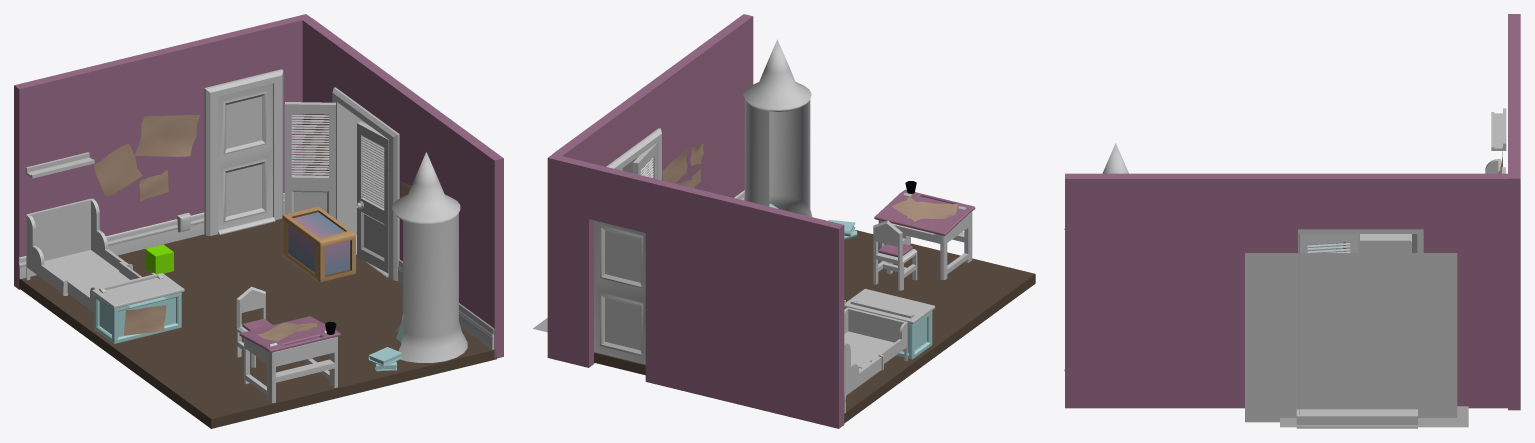
The model's file is Level[Bedroom].fbx.
3 renders of one model, left to right at view 1: azimuth 30°, elevation 25°; view 2: azimuth 150°, elevation 25°; view 3: azimuth 270°, elevation 25°, orthographic. The views are drawn at different scales.
Visible parts, largest first — view 1: Floor, Wall1, polySurface4, Tent, Bed, Door, WardrobeDoor2, polySurface12, DoorFrame2, Desk, WardrobeDoor1, boxEdgy1 (+11 smaller); view 2: Wall1, polySurface4, Floor, Tent, Door, Bed, Desk, polySurface1, polySurface12, Chair, polySurface3, DoorFrame1 (+3 smaller); view 3: polySurface4, pPlane1, polySurface3, polySurface1, Wall1, Floor2, Bed, pPlane3, WardrobeDoor1, DoorFrame1, Shelf1, Tent.
Boxes of the visible parts, x1,y1,x2,y2 form: Floor: (19, 218, 496, 428); Wall1: (14, 14, 311, 289); polySurface4: (394, 84, 503, 358); Tent: (392, 152, 467, 362); Bed: (26, 198, 155, 312); Door: (218, 83, 272, 230); WardrobeDoor2: (284, 102, 335, 218); polySurface12: (92, 273, 184, 343); DoorFrame2: (204, 69, 283, 235); Desk: (239, 316, 340, 402); WardrobeDoor1: (356, 121, 388, 273); boxEdgy1: (282, 206, 355, 282); Wall1: (547, 154, 844, 428); polySurface4: (643, 14, 753, 197); Floor: (594, 229, 1035, 423); Tent: (743, 39, 812, 216); Door: (594, 220, 645, 364); Bed: (844, 307, 907, 395); Desk: (874, 181, 975, 279); polySurface1: (589, 87, 652, 166); polySurface12: (844, 288, 935, 359); Chair: (873, 220, 917, 290); polySurface3: (553, 127, 598, 164); DoorFrame1: (606, 128, 661, 180); polySurface4: (1065, 173, 1297, 408); pPlane1: (1245, 253, 1457, 422); polySurface3: (1423, 173, 1508, 408); polySurface1: (1297, 173, 1423, 229); Wall1: (1508, 14, 1520, 410); Floor2: (1296, 409, 1417, 428); Bed: (1345, 159, 1501, 252); pPlane3: (1280, 406, 1468, 427); WardrobeDoor1: (1299, 234, 1358, 252); DoorFrame1: (1298, 229, 1423, 252); Shelf1: (1491, 108, 1506, 150); Tent: (1102, 143, 1128, 173).
Size of the model in its own units: 18.2 by 10.81 by 18.81.
